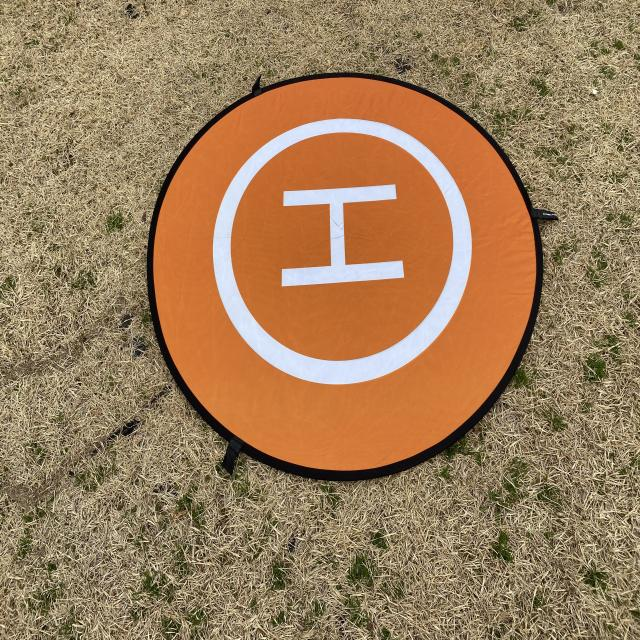helipad: (210, 117, 473, 385)
